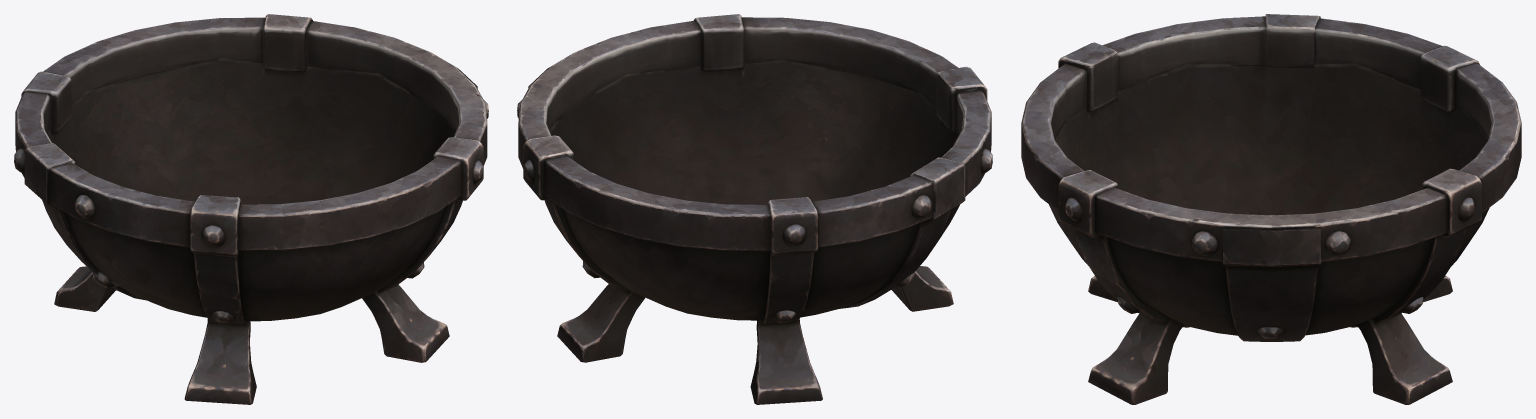
File: stone+cauldron+3d+model.fbx
3 renders of one model, left to right at view 1: azimuth 30°, elevation 25°; view 2: azimuth 150°, elevation 25°; view 3: azimuth 270°, elevation 25°, orthographic. The views are drawn at different scales.
Parts seen in each view (by area): view 1: tripo_8ef2d3ed_aa6b_4c68_90bc_15630297ee1f; view 2: tripo_8ef2d3ed_aa6b_4c68_90bc_15630297ee1f; view 3: tripo_8ef2d3ed_aa6b_4c68_90bc_15630297ee1f.
Boxes of the visible parts, x1,y1,x2,y2 form: tripo_8ef2d3ed_aa6b_4c68_90bc_15630297ee1f: (14,14,488,404); tripo_8ef2d3ed_aa6b_4c68_90bc_15630297ee1f: (517,14,992,404); tripo_8ef2d3ed_aa6b_4c68_90bc_15630297ee1f: (1021,14,1521,404).
Bounding box in the file's own units: 0.9995 × 0.4868 × 0.9888.
